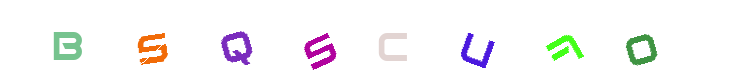0: (601, 0, 681, 80)
7: (524, 0, 604, 80)
B: (94, 0, 174, 80)
C: (323, 0, 403, 80)
Q: (280, 0, 360, 80)
S: (112, 0, 192, 80), (302, 0, 382, 80)
U: (337, 0, 417, 80)
